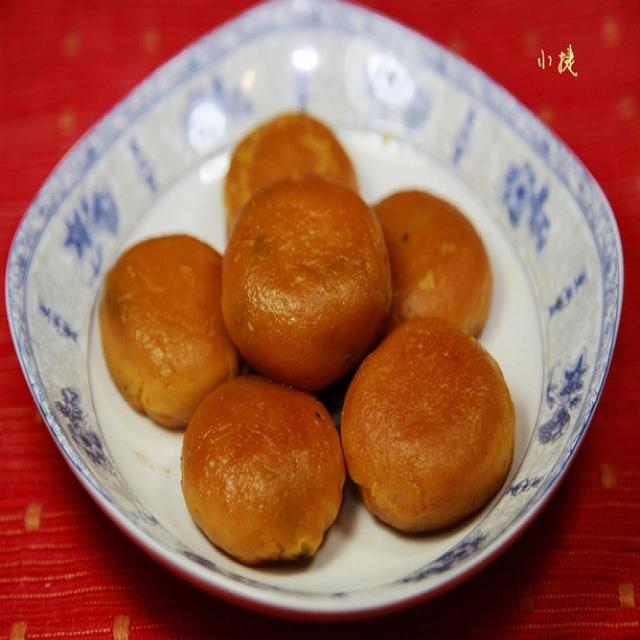炸货点心: (9, 5, 626, 637)
蛋糕甜品: (9, 5, 626, 637)
